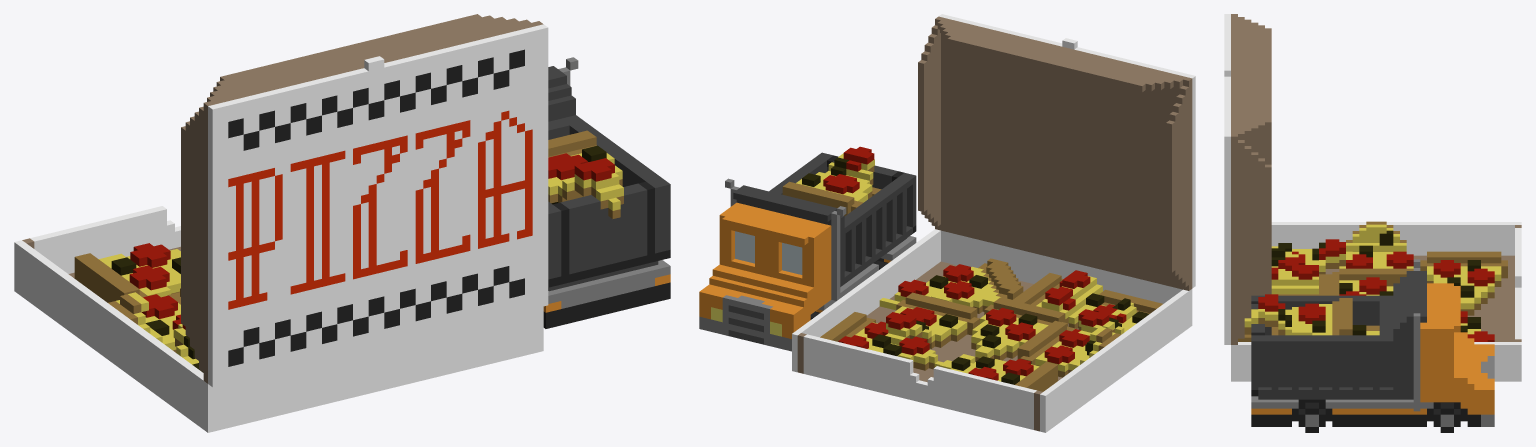
File: pizza_farm-0.obj
3 renders of one model, left to right at view 1: azimuth 30°, elevation 25°; view 2: azimuth 150°, elevation 25°; view 3: azimuth 270°, elevation 25°, orthographic. The views are drawn at different scales.
Parts seen in each view (by area): view 1: pizza_farm-0; view 2: pizza_farm-0; view 3: pizza_farm-0.
Part boxes in pixels (box(x1,y1,x2,y2)): pizza_farm-0: box(14, 14, 670, 432); pizza_farm-0: box(699, 14, 1195, 432); pizza_farm-0: box(1224, 14, 1521, 432).
Size of the model in its own units: 63 by 41 by 44.
Materials: 1 (1 with a texture image).
